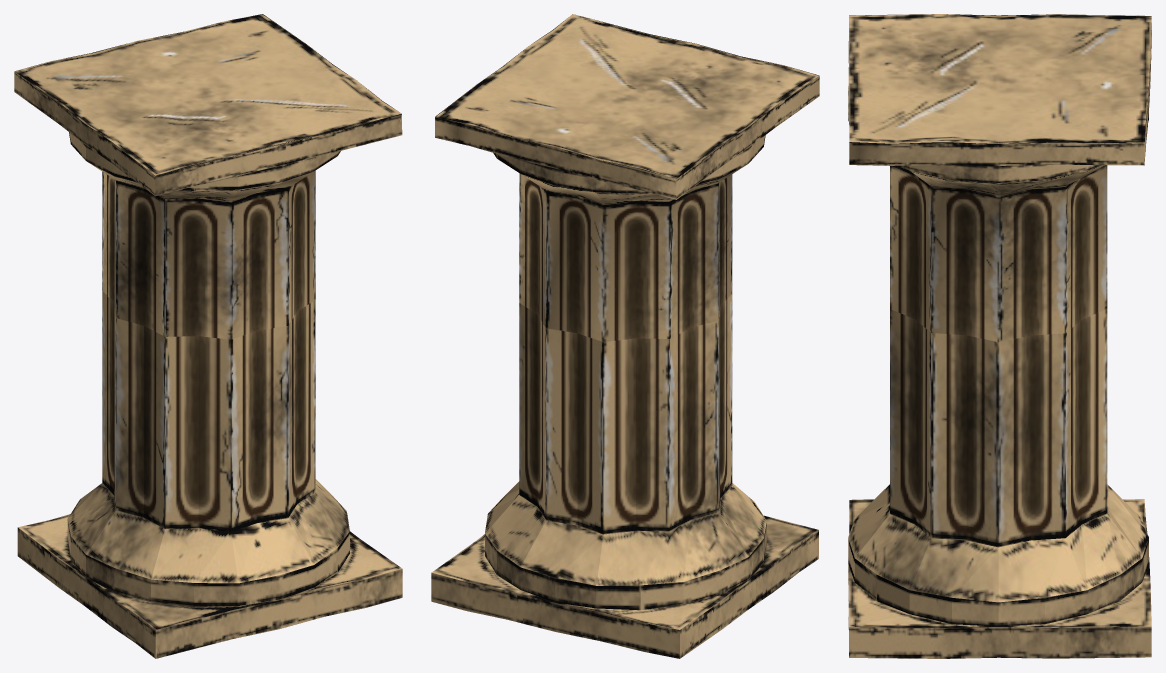
File: Pillar.fbx
The picture shows the model from 3 angles, left to right: view 1: azimuth 30°, elevation 25°; view 2: azimuth 150°, elevation 25°; view 3: azimuth 270°, elevation 25°; orthographic projection. The views are drawn at different scales.
Visible parts, largest first — view 1: pCylinder1, pCylinder2; view 2: pCylinder1, pCylinder2; view 3: pCylinder1, pCylinder2.
Boxes of the visible parts, <box> form: pCylinder1: <box>17,291,402,658</box>; pCylinder2: <box>14,14,402,339</box>; pCylinder1: <box>431,294,818,658</box>; pCylinder2: <box>435,14,819,342</box>; pCylinder1: <box>848,309,1151,658</box>; pCylinder2: <box>848,14,1151,342</box>.
Bounding box in the file's own units: 2.03 × 3.8 × 2.02.
1 material, 1 textured.
